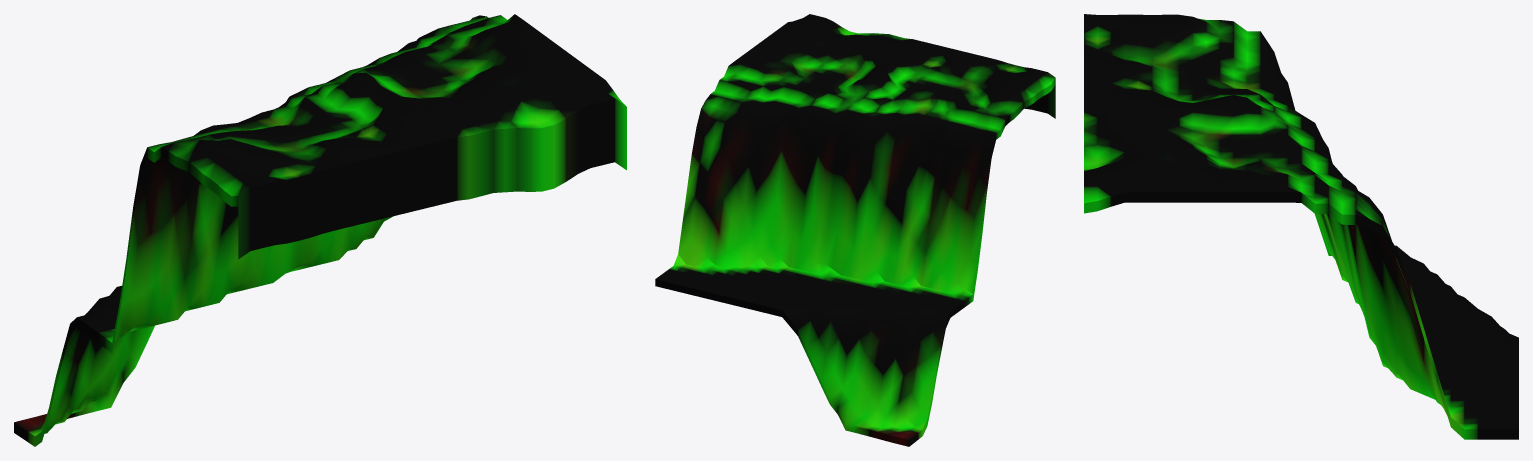
Rendered from Terrain_07_02.fbx.
3 renders of one model, left to right at view 1: azimuth 30°, elevation 25°; view 2: azimuth 150°, elevation 25°; view 3: azimuth 270°, elevation 25°, orthographic. The views are drawn at different scales.
Parts seen in each view (by area): view 1: Terrain_07_02_LOD0; view 2: Terrain_07_02_LOD0; view 3: Terrain_07_02_LOD0.
Boxes of the visible parts, bbox=[...] form: Terrain_07_02_LOD0: bbox=[14, 14, 626, 446]; Terrain_07_02_LOD0: bbox=[655, 14, 1055, 446]; Terrain_07_02_LOD0: bbox=[1084, 14, 1518, 439].
Size of what is drawn, in the model's own units: 384 by 384 by 384.
